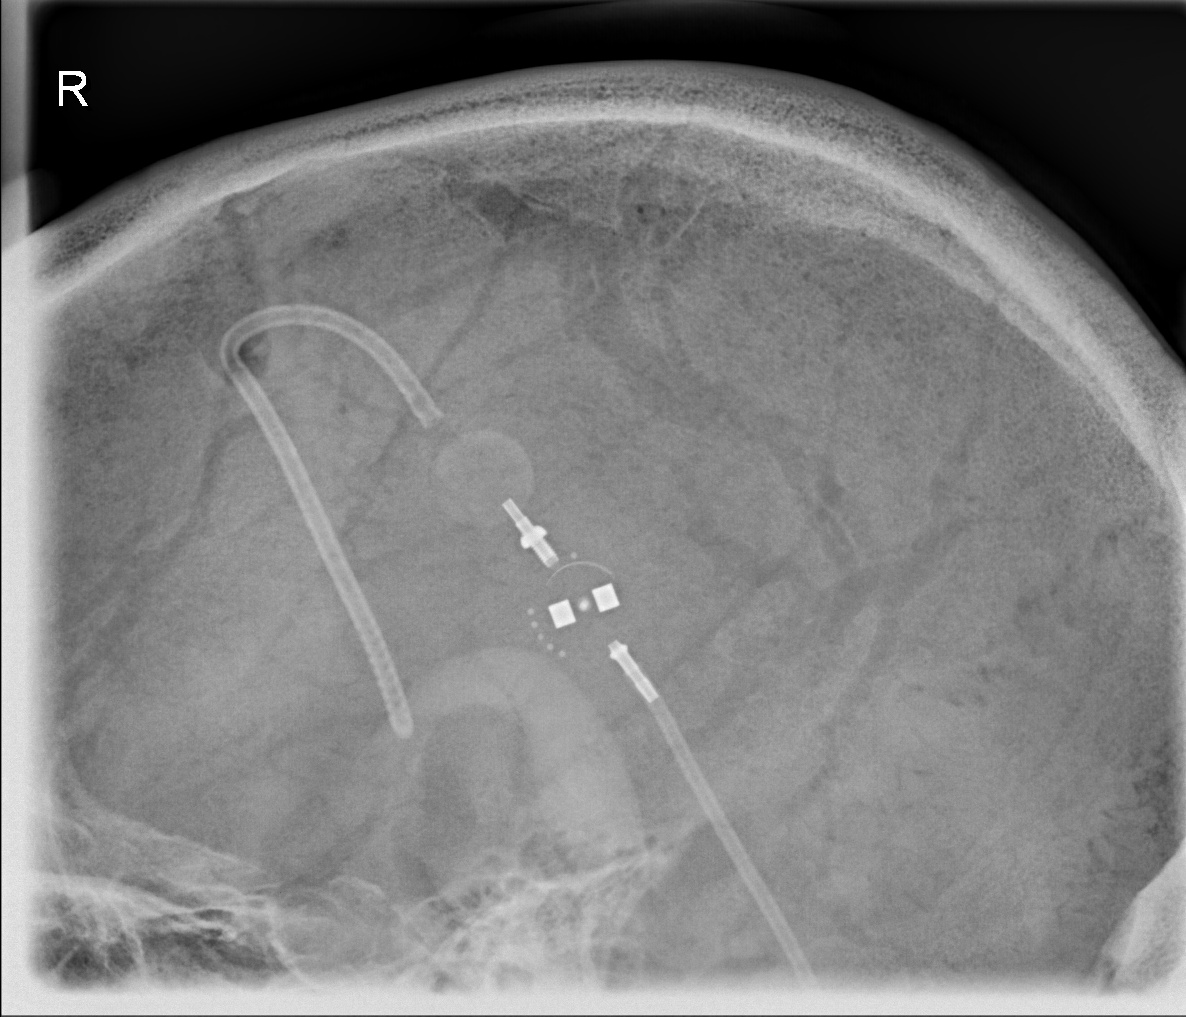Sophysa Polaris: (501, 550, 647, 669)
